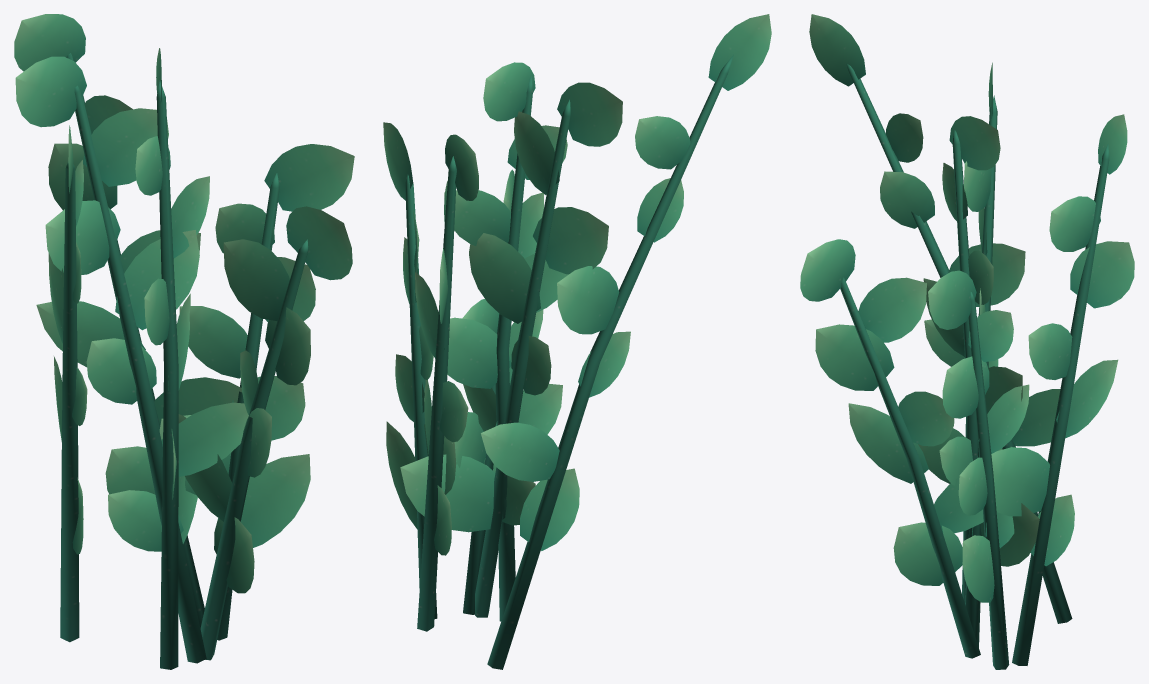
Rendered from Seaweed_Leafy.fbx.
3 views of the same model, side by side, from view 1: azimuth 30°, elevation 25°; view 2: azimuth 150°, elevation 25°; view 3: azimuth 270°, elevation 25° (orthographic). The views are drawn at different scales.
Visible parts, largest first — view 1: Seaweed_Leafy; view 2: Seaweed_Leafy; view 3: Seaweed_Leafy.
Boxes of the visible parts, x1=… form: Seaweed_Leafy: x1=14, y1=14, x2=354, y2=669; Seaweed_Leafy: x1=383, y1=14, x2=771, y2=669; Seaweed_Leafy: x1=800, y1=14, x2=1134, y2=669.
Bounding box in the file's own units: 0.2248 × 0.3898 × 0.2161.
